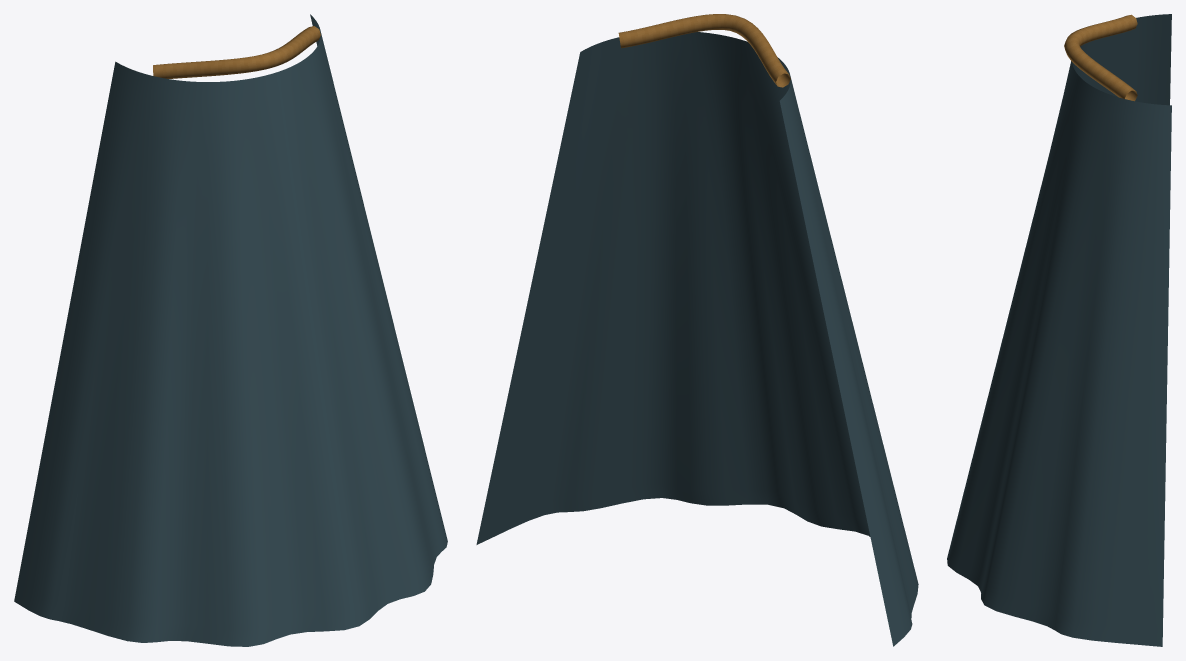
3 views of the same model, side by side, from view 1: azimuth 30°, elevation 25°; view 2: azimuth 150°, elevation 25°; view 3: azimuth 270°, elevation 25° (orthographic). The views are drawn at different scales.
Visible parts, largest first — view 1: cloth.0, brass.1; view 2: cloth.0, brass.1; view 3: cloth.0, brass.1.
Part boxes in pixels (x1,y1,x2,y2): cloth.0: [14, 14, 447, 646]; brass.1: [153, 26, 320, 78]; cloth.0: [476, 32, 918, 646]; brass.1: [618, 14, 790, 87]; cloth.0: [947, 14, 1171, 646]; brass.1: [1064, 14, 1137, 101].
Bounding box in the file's own units: 0.9172 × 1.15 × 0.456.
2 materials, 2 textured.
